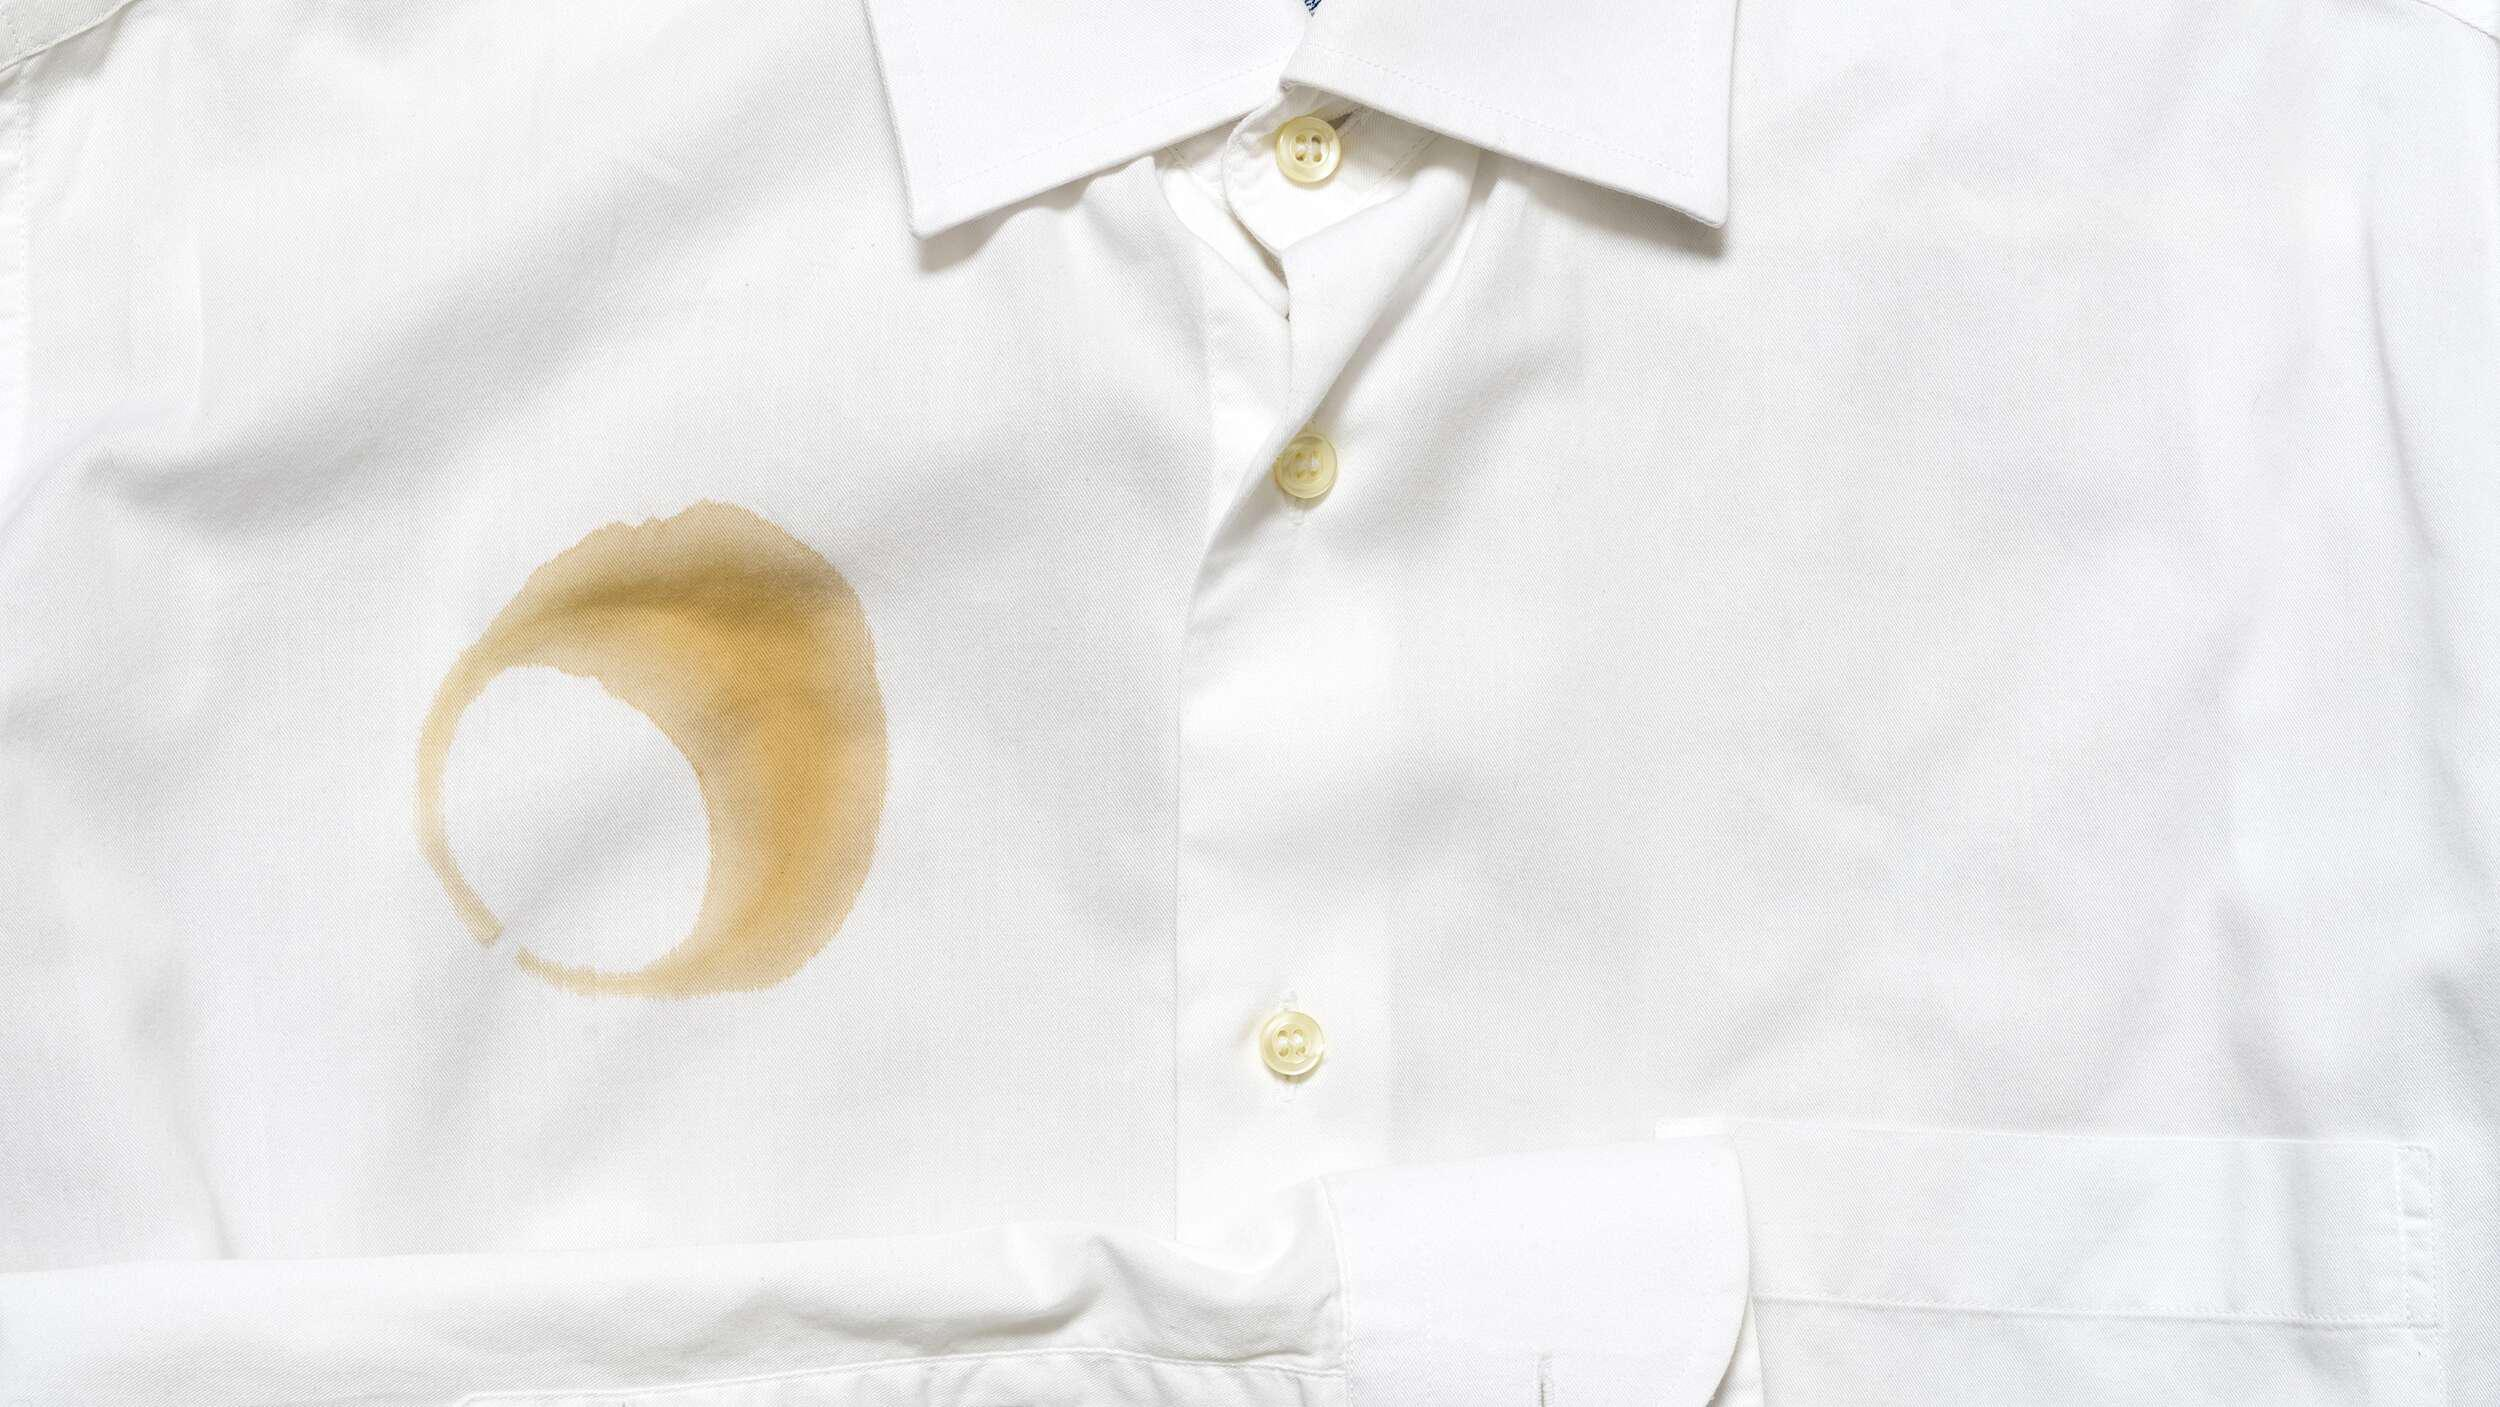gun: (391, 539, 901, 1031)
